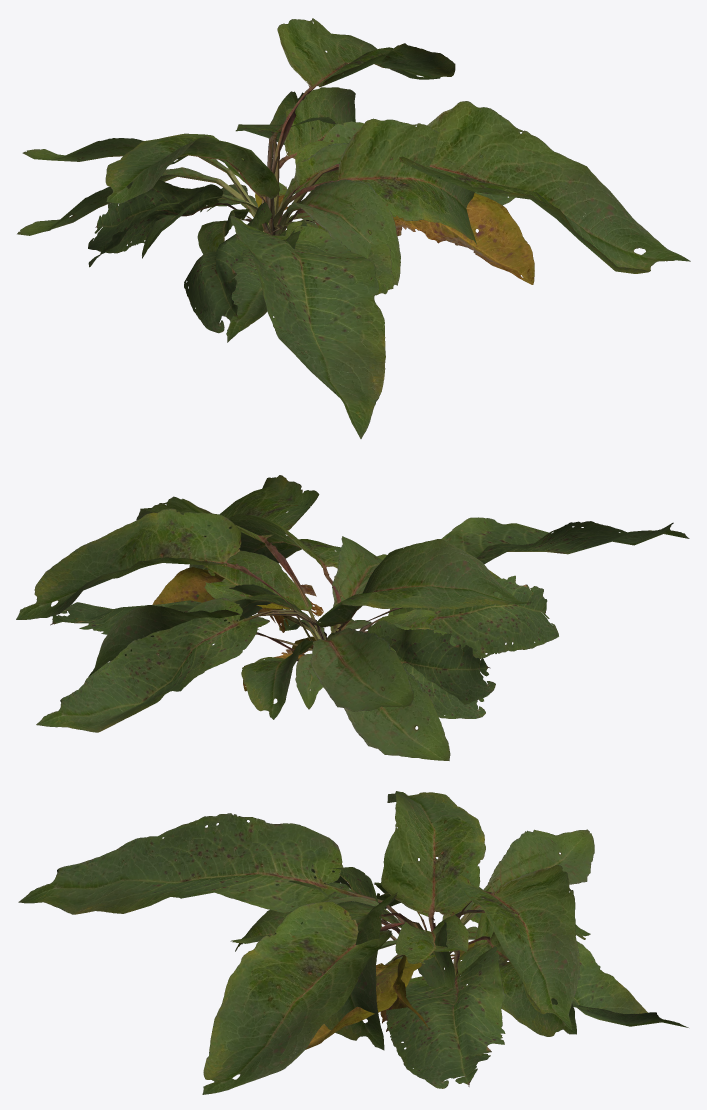
File: weed_plant_02.glb
3 views of the same model, one above another, from view 1: azimuth 30°, elevation 25°; view 2: azimuth 150°, elevation 25°; view 3: azimuth 270°, elevation 25° (orthographic). The views are drawn at different scales.
Visible parts, largest first — view 1: weed_plant_02_a_lod0, weed_plant_02_b_lod0, weed_plant_02_c_lod0, weed_plant_02_d_lod0, weed_plant_02_e_lod0; view 2: weed_plant_02_a_lod0, weed_plant_02_b_lod0, weed_plant_02_c_lod0, weed_plant_02_d_lod0, weed_plant_02_e_lod0; view 3: weed_plant_02_a_lod0, weed_plant_02_b_lod0, weed_plant_02_c_lod0, weed_plant_02_d_lod0, weed_plant_02_e_lod0.
Boxes of the visible parts, box(x1,y1,x2,y2) form: weed_plant_02_a_lod0: box(17, 91, 690, 438); weed_plant_02_b_lod0: box(22, 18, 455, 333); weed_plant_02_c_lod0: box(142, 118, 476, 342); weed_plant_02_d_lod0: box(88, 87, 355, 267); weed_plant_02_e_lod0: box(88, 180, 315, 254); weed_plant_02_a_lod0: box(36, 475, 689, 760); weed_plant_02_b_lod0: box(16, 508, 558, 732); weed_plant_02_c_lod0: box(189, 513, 500, 719); weed_plant_02_d_lod0: box(88, 584, 487, 718); weed_plant_02_e_lod0: box(243, 609, 495, 704); weed_plant_02_a_lod0: box(18, 791, 685, 1094); weed_plant_02_b_lod0: box(230, 829, 688, 1031); weed_plant_02_c_lod0: box(276, 880, 590, 1050); weed_plant_02_d_lod0: box(379, 858, 576, 1036); weed_plant_02_e_lod0: box(374, 882, 481, 978).
Size of what is drawn, in the model's own units: 0.2193 by 0.0751 by 0.2909.
1 material, 1 textured.
